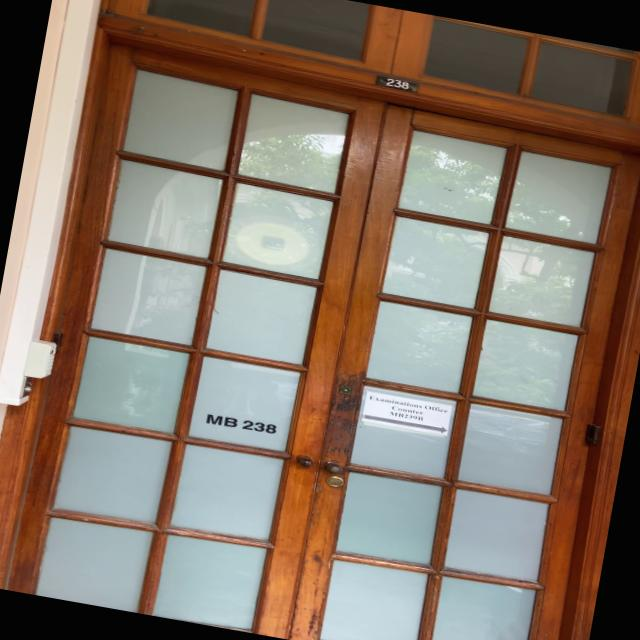room238: (370, 73, 422, 94)
